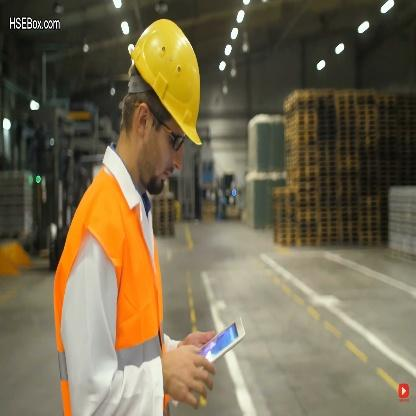helmet: (110, 17, 209, 200)
